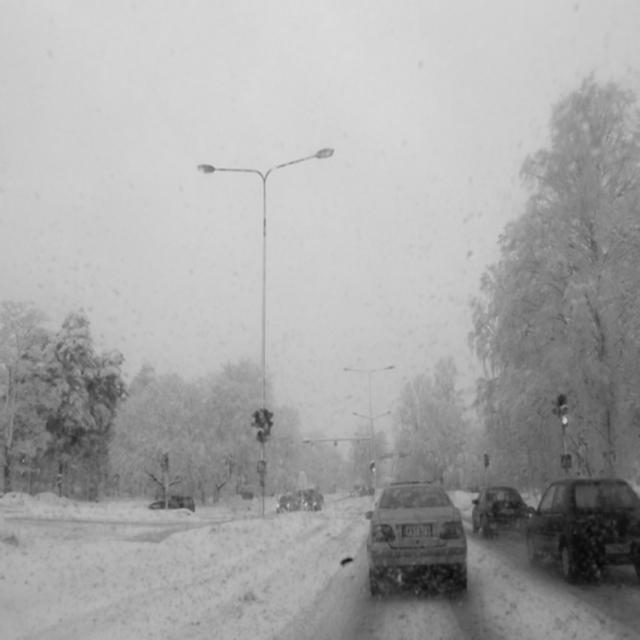car: (365, 476, 468, 594), (529, 478, 639, 574), (470, 483, 534, 540), (147, 492, 194, 509), (276, 490, 299, 515), (303, 492, 322, 508)
